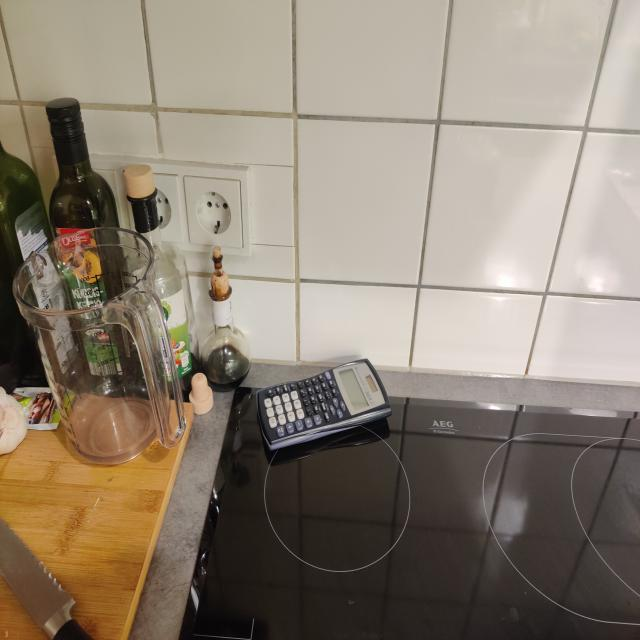Calculator: (256, 358, 392, 450)
